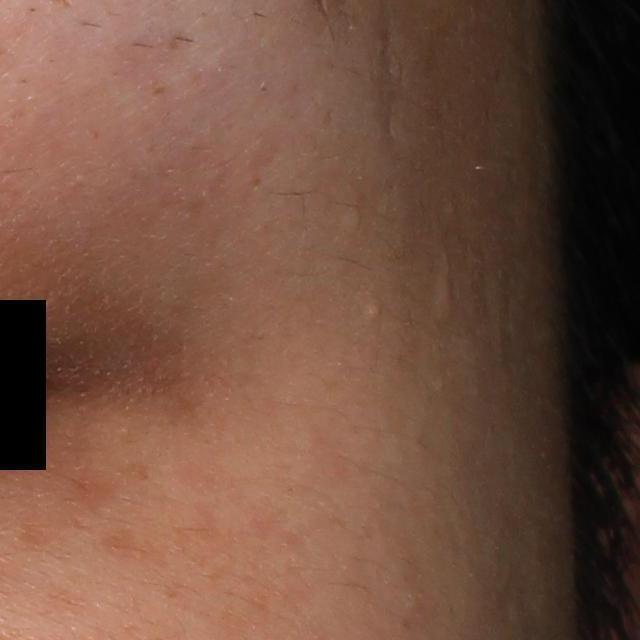atrophic_scar: (372, 1, 410, 149)
comedo: (366, 297, 386, 322)
melasma: (65, 459, 155, 521)
